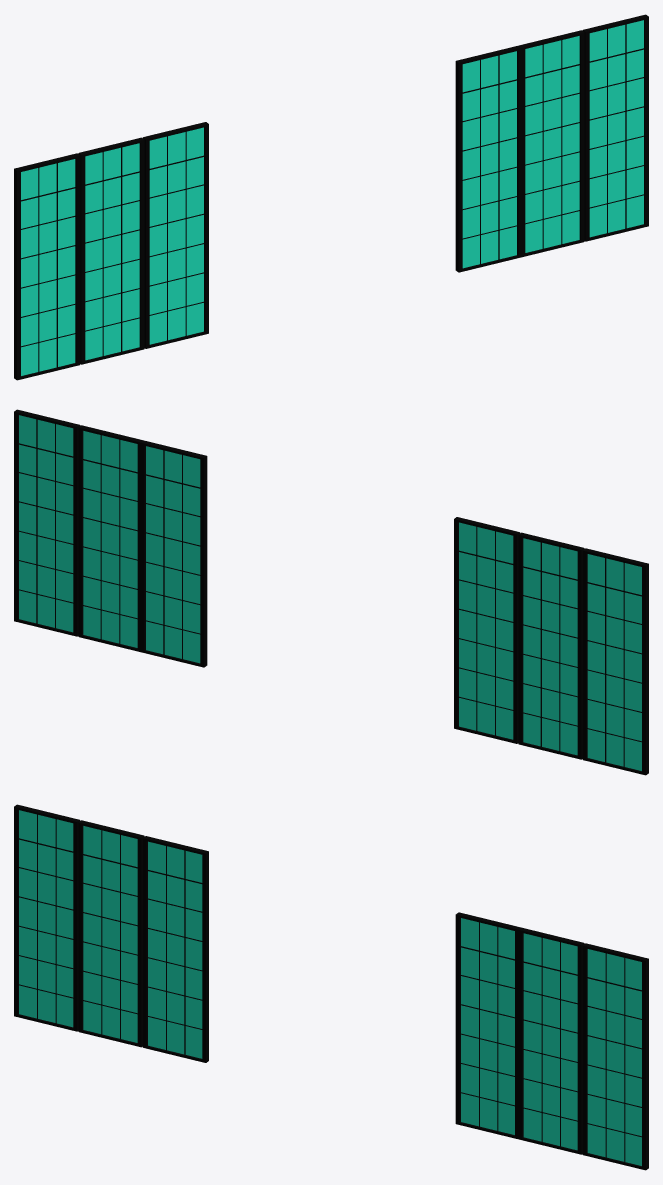
File: paravents.FBX
3 views of the same model, one above another, from view 1: azimuth 30°, elevation 25°; view 2: azimuth 150°, elevation 25°; view 3: azimuth 330°, elevation 25° (orthographic).
Parts seen in each view (by area): view 1: Box275; view 2: Box275; view 3: Box275.
Boxes of the visible parts, box(x1,y1,x2,y2) form: Box275: box(14, 14, 648, 380); Box275: box(14, 409, 648, 775); Box275: box(14, 804, 648, 1170).
Size of the model in its own units: 939 by 297 by 7.83.
